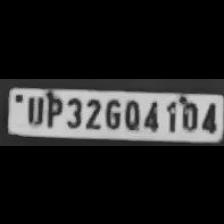0: (179, 98, 199, 130)
1: (162, 97, 180, 131)
2: (82, 94, 102, 130)
3: (62, 92, 82, 128)
4: (140, 96, 160, 130), (198, 99, 218, 131)
G: (102, 96, 120, 128)
P: (43, 93, 62, 125)
Q: (120, 97, 140, 129)
U: (22, 92, 44, 124)
